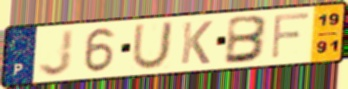6: (83, 26, 117, 74)
B: (222, 14, 271, 66)
F: (269, 11, 312, 62)
J: (37, 28, 76, 78)
K: (178, 19, 215, 66)
U: (130, 20, 176, 71)
